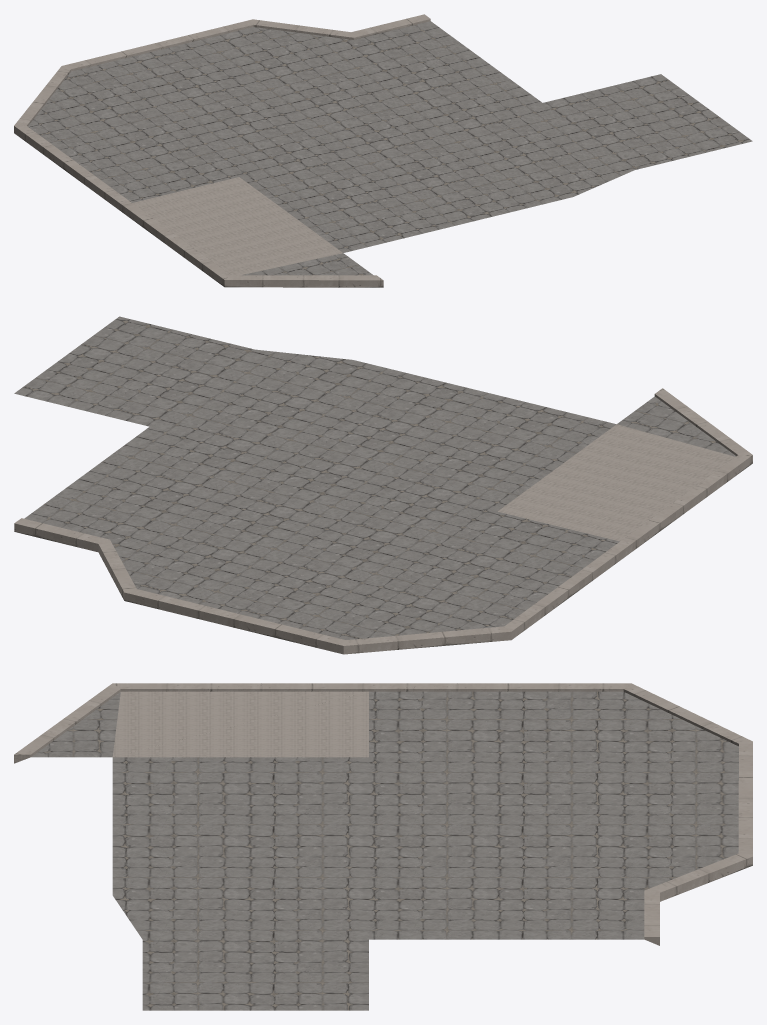
The model's file is TownGroundTile_M.fbx.
3 views of the same model, one above another, from view 1: azimuth 30°, elevation 25°; view 2: azimuth 150°, elevation 25°; view 3: azimuth 270°, elevation 25° (orthographic). The views are drawn at different scales.
Parts seen in each view (by area): view 1: TownGroundTile_M; view 2: TownGroundTile_M; view 3: TownGroundTile_M.
Boxes of the visible parts, x1,y1,x2,y2 form: TownGroundTile_M: [14, 14, 752, 287]; TownGroundTile_M: [14, 316, 752, 654]; TownGroundTile_M: [14, 683, 752, 1010].
Bounding box in the file's own units: 3226 × 42.24 × 3101.
Materials: 2 (2 with a texture image).
